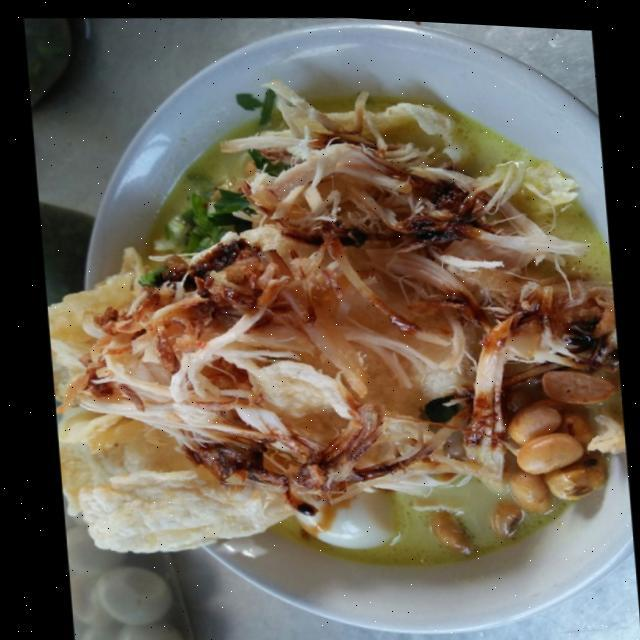bubur ayam: (9, 49, 634, 604)
mangkuk: (60, 3, 640, 640)
